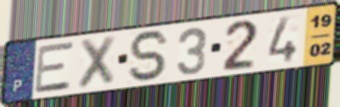2: (222, 18, 261, 74)
3: (175, 26, 208, 76)
4: (267, 14, 300, 65)
E: (33, 40, 75, 95)
S: (127, 29, 172, 84)
X: (75, 33, 119, 91)
